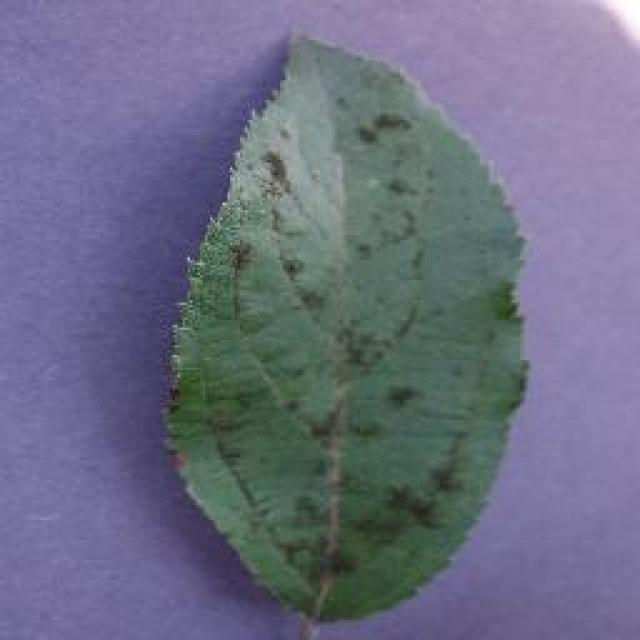apple scab disease: (158, 28, 532, 638)
